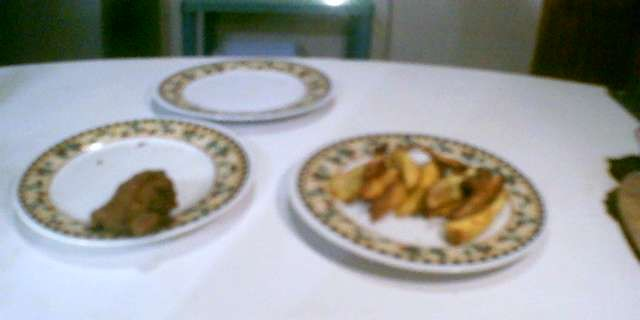chicken: (86, 163, 182, 241)
empty_plate: (150, 54, 338, 128)
potatoe_fries: (329, 138, 512, 246)
